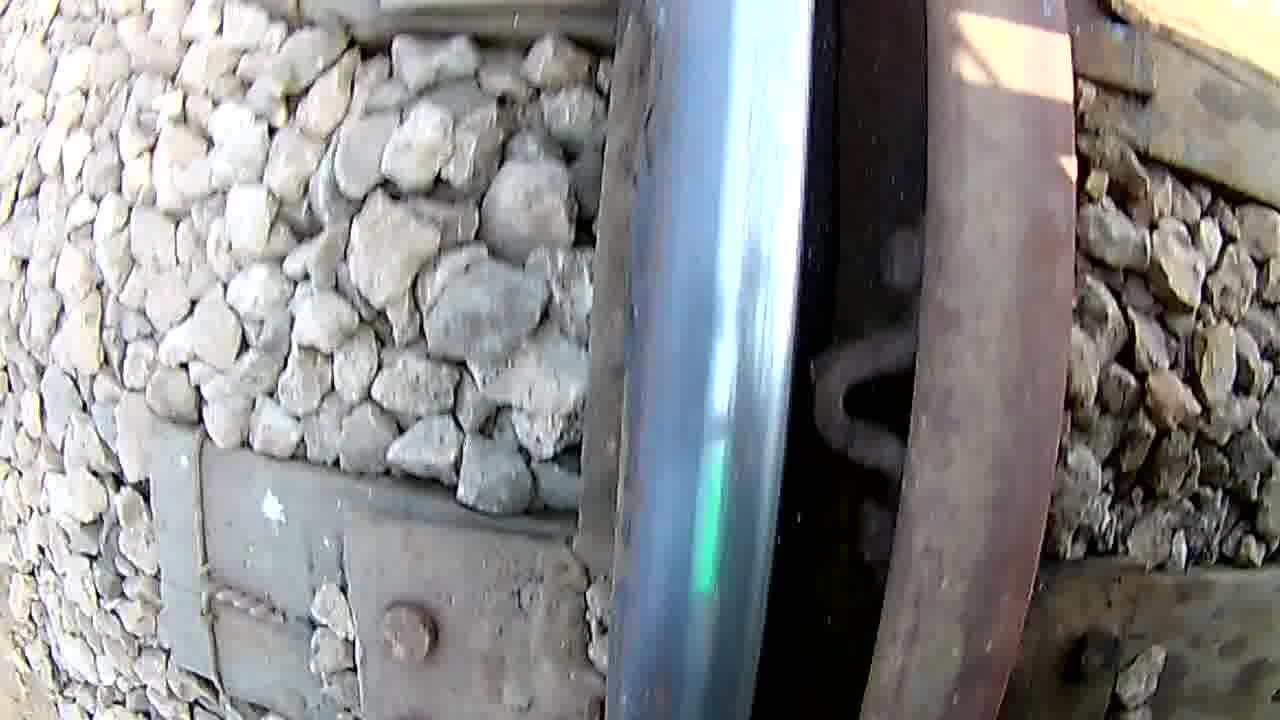crack: (620, 2, 814, 720)
